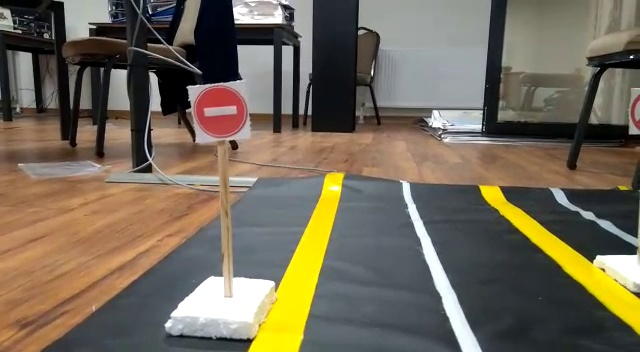girisi_olmayan_yol: (195, 81, 251, 140)
